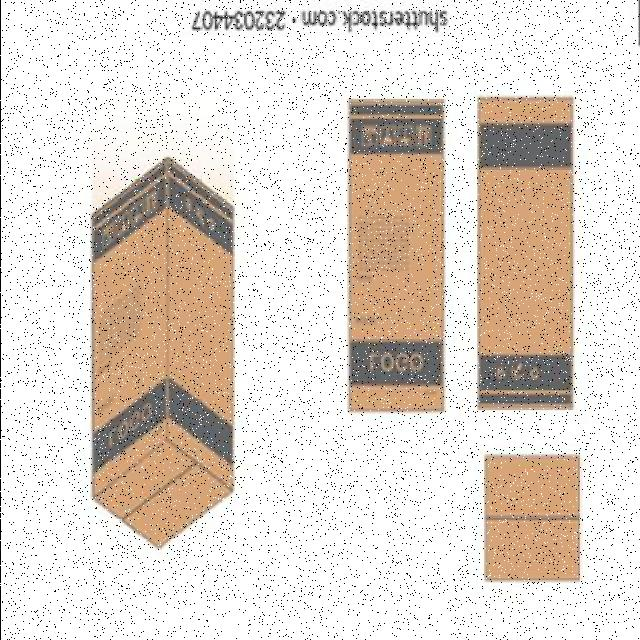normal: (83, 149, 237, 557), (472, 91, 583, 418), (342, 88, 452, 415), (472, 446, 585, 591)
